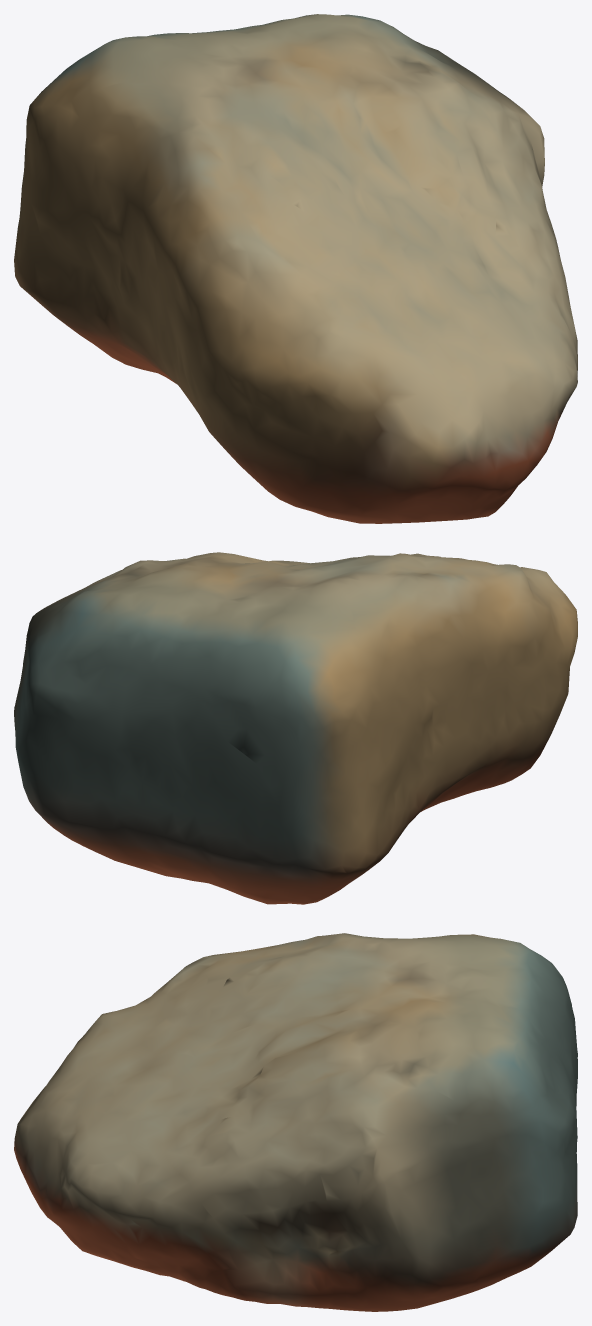
Rendered from rock22_low.fbx.
3 renders of one model, top to bottom at view 1: azimuth 30°, elevation 25°; view 2: azimuth 150°, elevation 25°; view 3: azimuth 270°, elevation 25°, orthographic. The views are drawn at different scales.
Parts seen in each view (by area): view 1: rock22_low; view 2: rock22_low; view 3: rock22_low.
Part boxes in pixels (x1=…): rock22_low: x1=14, y1=14, x2=577, y2=523; rock22_low: x1=14, y1=552, x2=577, y2=904; rock22_low: x1=14, y1=933, x2=577, y2=1311.
Size of the model in its own units: 0.7793 by 0.5371 by 1.
